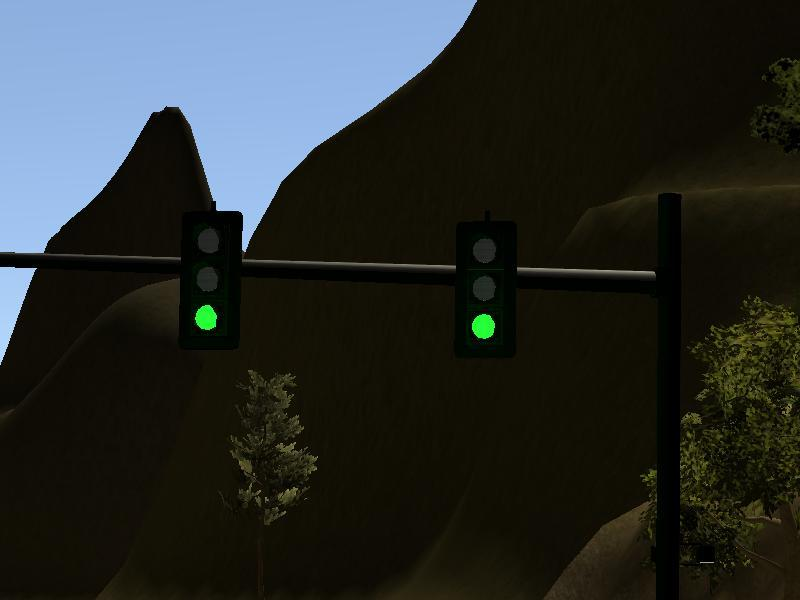Green: (180, 210, 240, 350), (455, 220, 515, 360)
